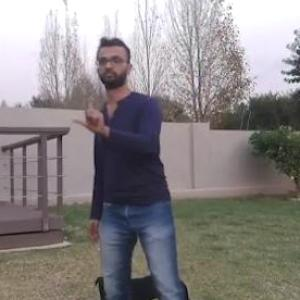land_hand: (72, 89, 110, 136)
